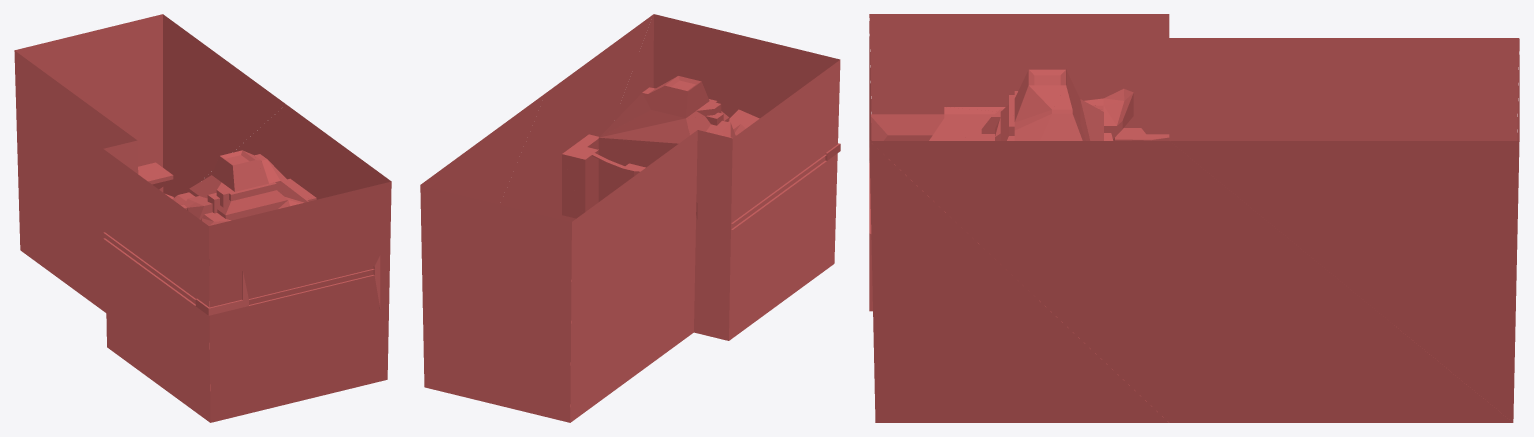
The model's file is tibi_deka_t.glb.
3 views of the same model, side by side, from view 1: azimuth 30°, elevation 25°; view 2: azimuth 150°, elevation 25°; view 3: azimuth 270°, elevation 25° (orthographic). The views are drawn at different scales.
Parts seen in each view (by area): view 1: tibi_deka_t_col; view 2: tibi_deka_t_col; view 3: tibi_deka_t_col.
Part boxes in pixels (x1,y1,x2,y2): tibi_deka_t_col: (14,14,391,422); tibi_deka_t_col: (420,14,840,422); tibi_deka_t_col: (869,14,1519,422).
Bounding box in the file's own units: 4.8 × 5.01 × 10.4.
